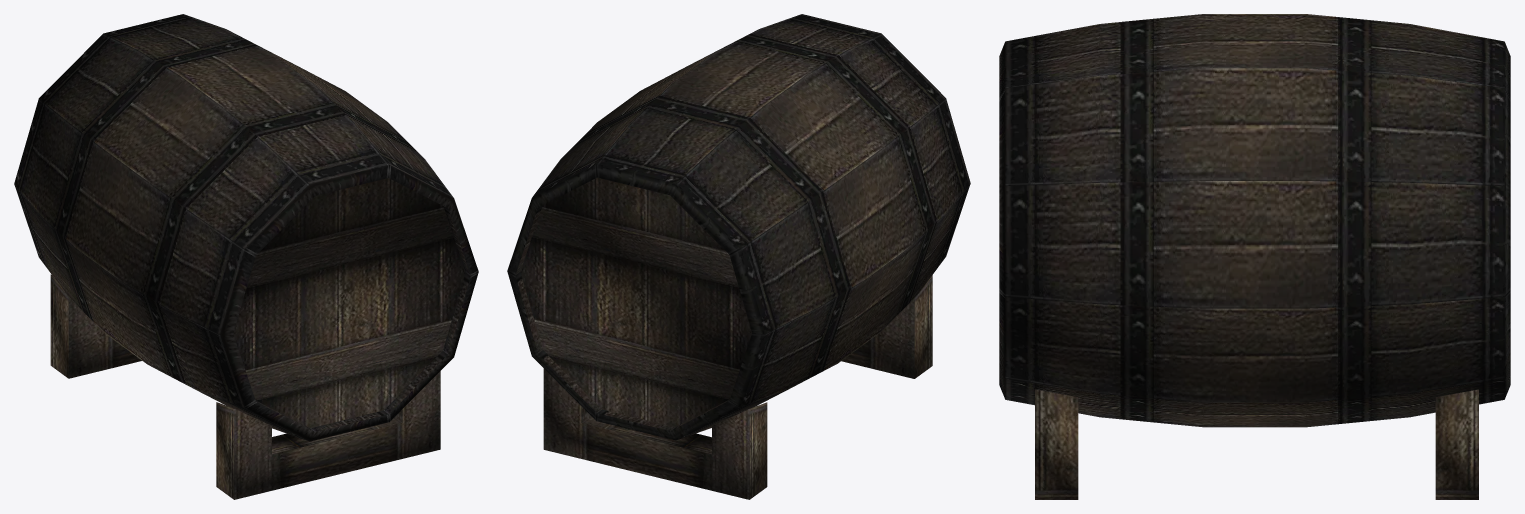
File: KM_VOB_WINEBARREL_02.glb
The picture shows the model from 3 angles, left to right: view 1: azimuth 30°, elevation 25°; view 2: azimuth 150°, elevation 25°; view 3: azimuth 270°, elevation 25°; orthographic projection. The views are drawn at different scales.
Parts seen in each view (by area): view 1: Mesh; view 2: Mesh; view 3: Mesh.
Part boxes in pixels (left/top/right/bottom): Mesh: left=14, top=14, right=478, bottom=499; Mesh: left=507, top=14, right=970, bottom=499; Mesh: left=999, top=14, right=1510, bottom=499.
Bounding box in the file's own units: 0.8079 × 0.8519 × 0.9916.
1 material, 1 textured.
